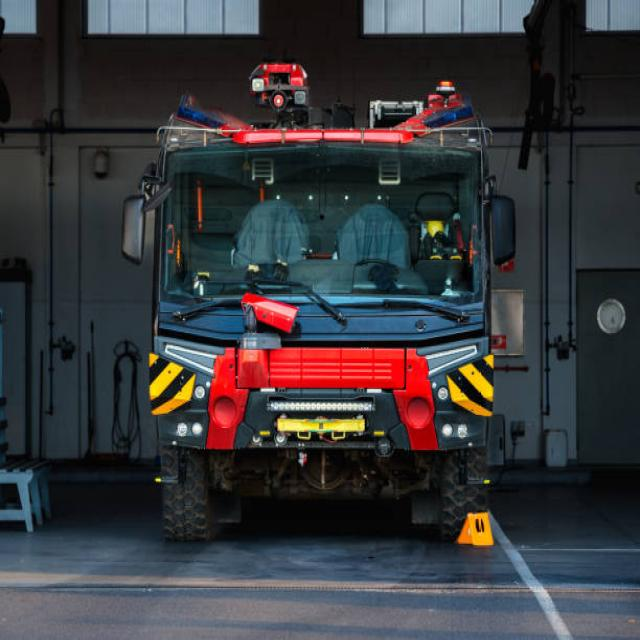emergency: (121, 62, 516, 540)
